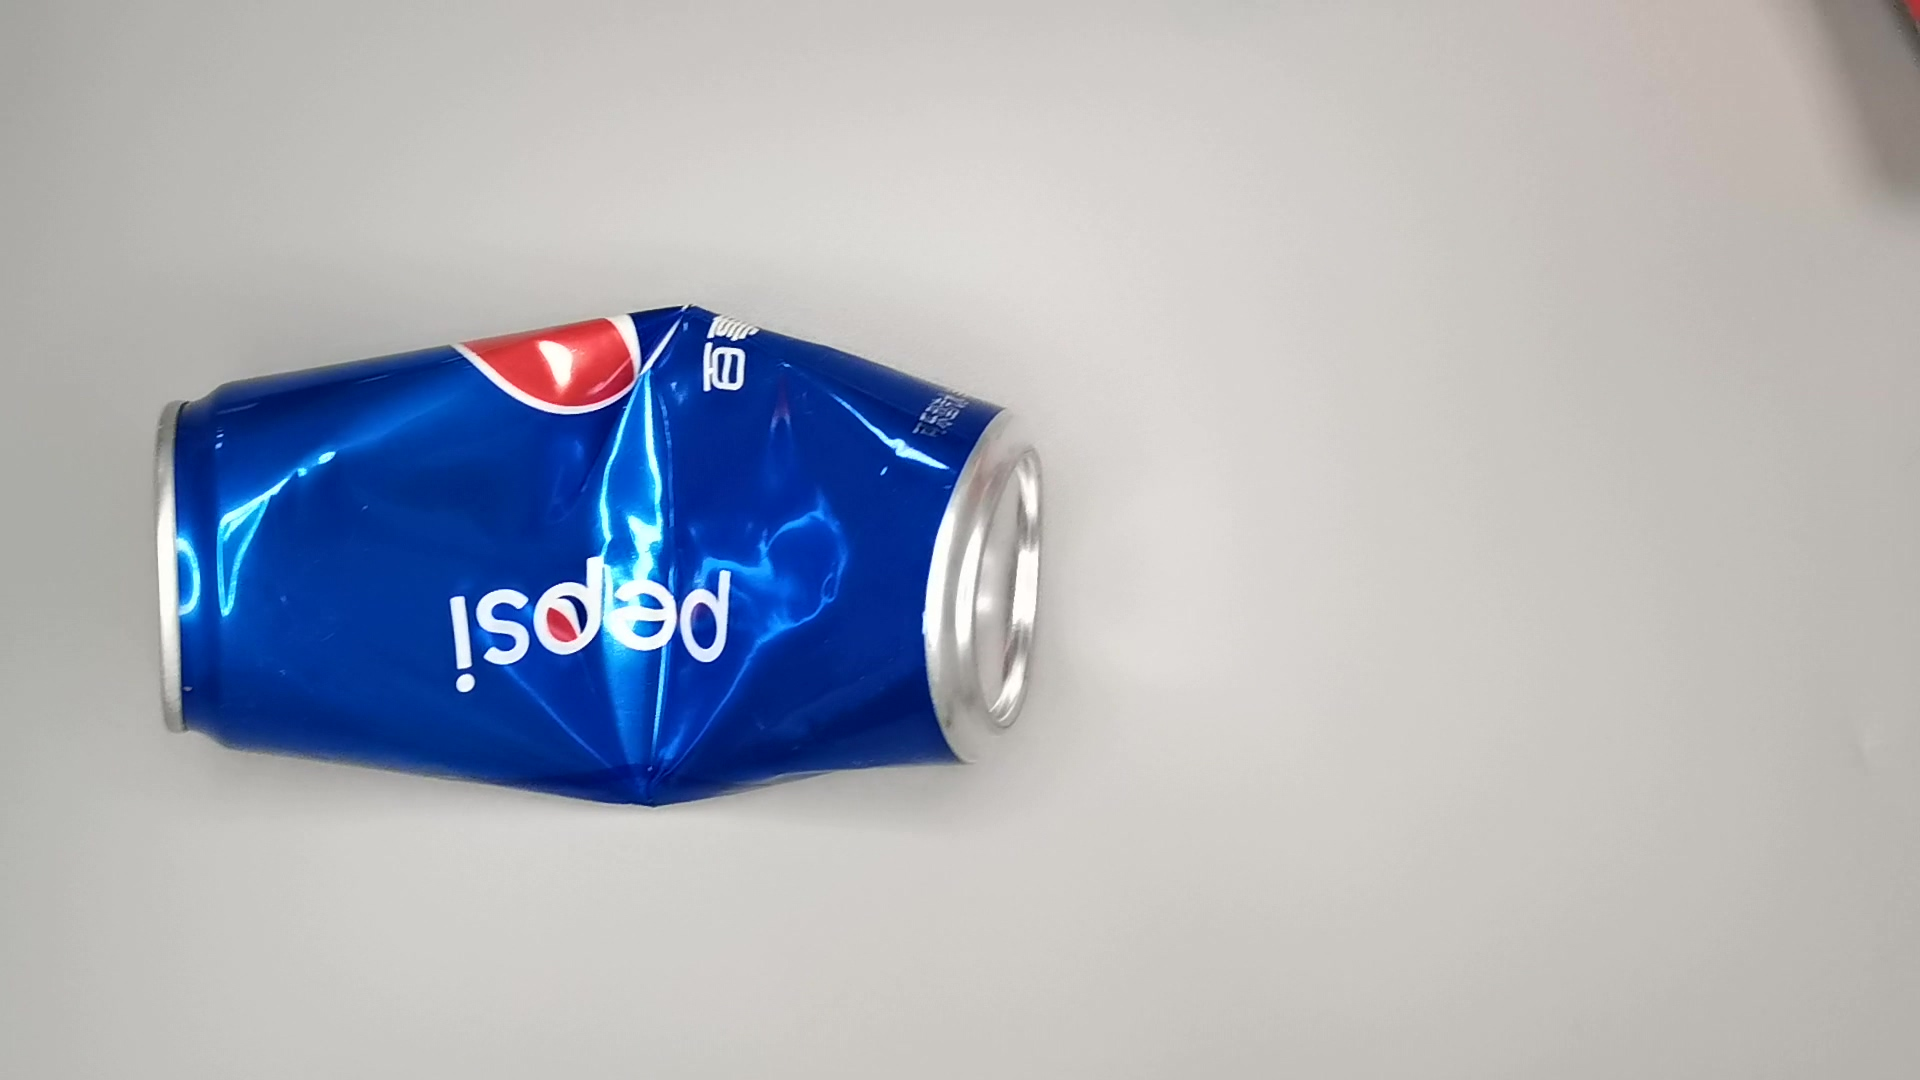can: (140, 291, 1065, 815)
